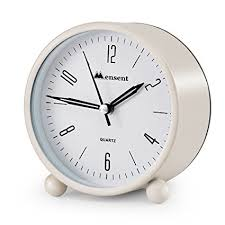alarm_clock: (21, 19, 213, 203), (21, 25, 213, 203)
